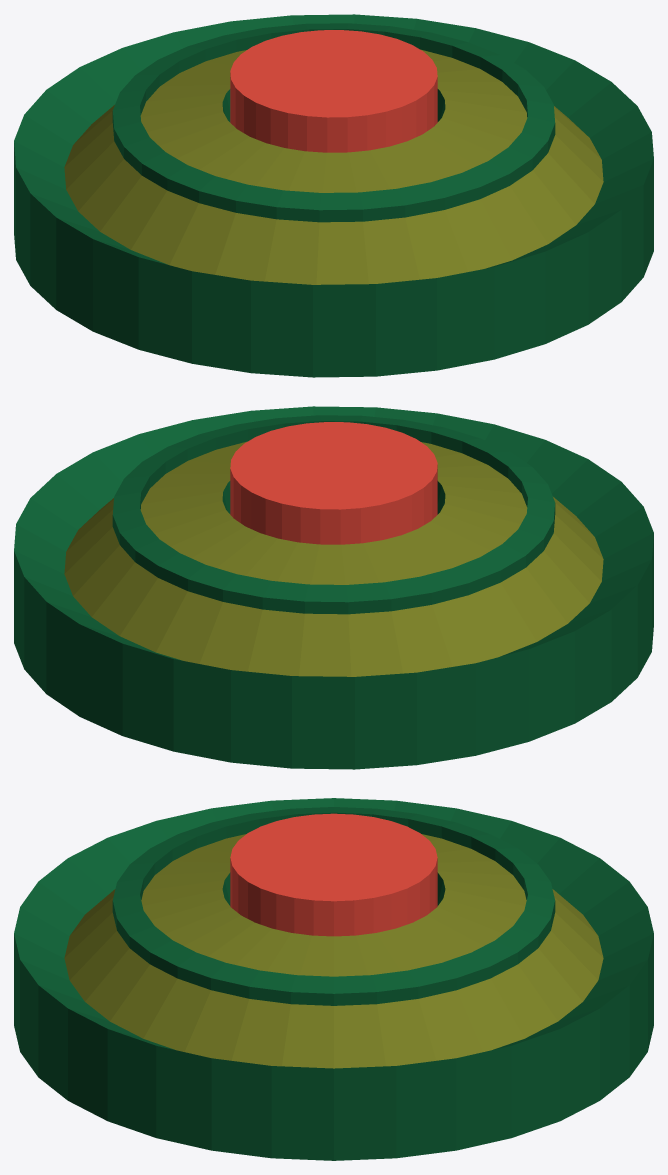
Rendered from bomb.fbx.
The picture shows the model from 3 angles, top to bottom: view 1: azimuth 30°, elevation 25°; view 2: azimuth 150°, elevation 25°; view 3: azimuth 270°, elevation 25°; orthographic projection.
Visible parts, largest first — view 1: Окружность; view 2: Окружность; view 3: Окружность.
Boxes of the visible parts, x1=… form: Окружность: x1=14, y1=14, x2=653, y2=377; Окружность: x1=14, y1=406, x2=653, y2=769; Окружность: x1=14, y1=798, x2=653, y2=1160.
Size of the model in its own units: 200 by 58 by 200.
